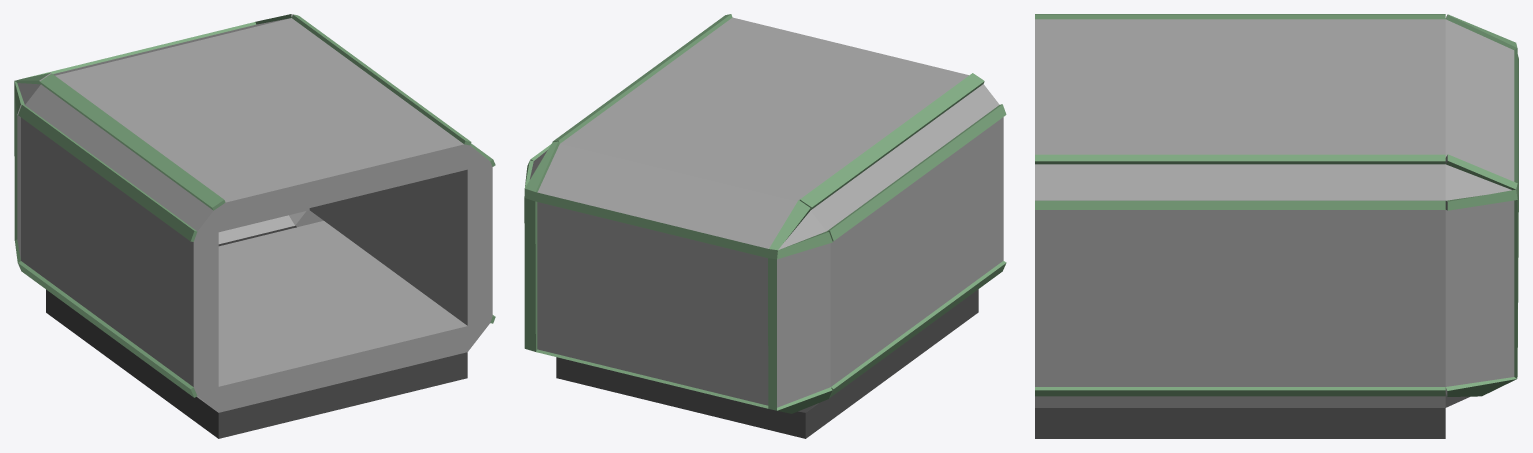
The model's file is ExteriorBase_End.fbx.
3 views of the same model, side by side, from view 1: azimuth 30°, elevation 25°; view 2: azimuth 150°, elevation 25°; view 3: azimuth 270°, elevation 25° (orthographic). The views are drawn at different scales.
Parts seen in each view (by area): view 1: ExteriorBase_End; view 2: ExteriorBase_End; view 3: ExteriorBase_End.
Boxes of the visible parts, bbox=[...] form: ExteriorBase_End: bbox=[14, 14, 495, 438]; ExteriorBase_End: bbox=[524, 14, 1006, 438]; ExteriorBase_End: bbox=[1035, 14, 1518, 438].
Bounding box in the file's own units: 1225 × 912 × 1414.
